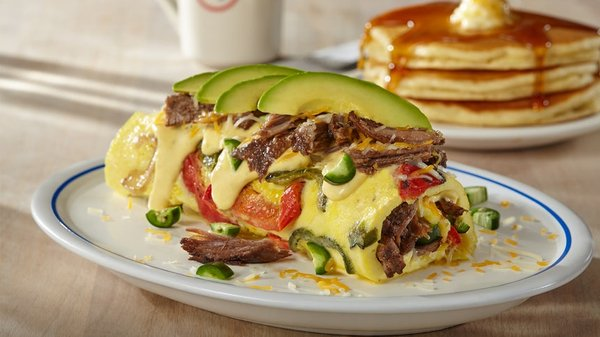pizza: (177, 1, 284, 65)
soup: (137, 66, 482, 283), (356, 2, 600, 127)
